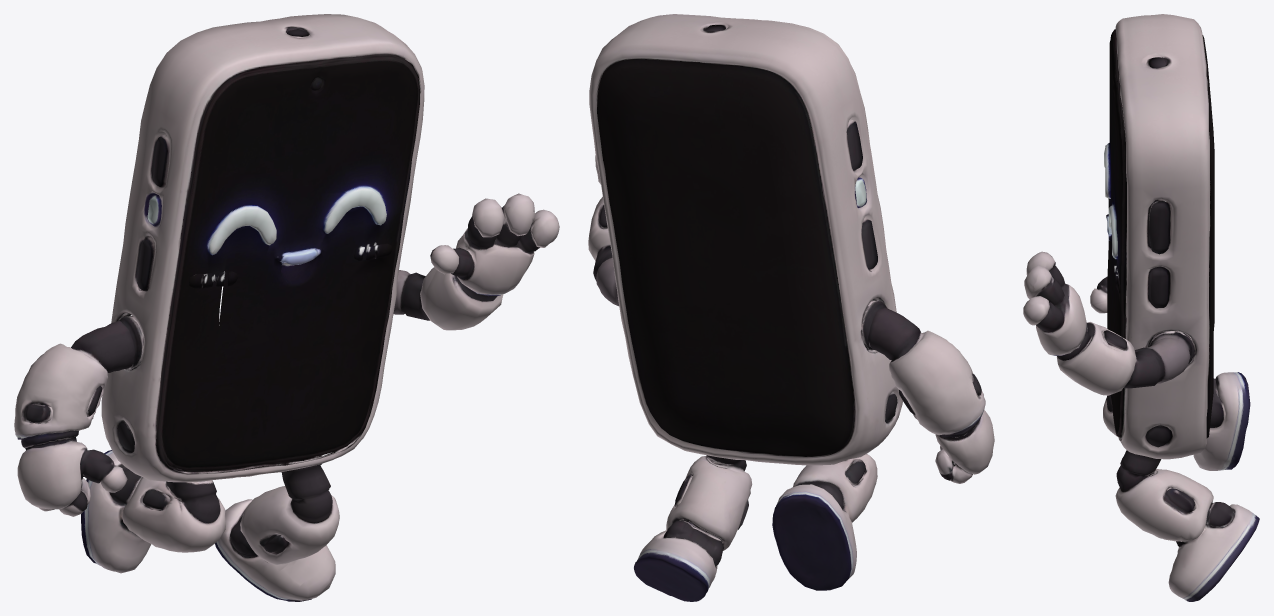
The model's file is pirophone-original.glb.
3 renders of one model, left to right at view 1: azimuth 30°, elevation 25°; view 2: azimuth 150°, elevation 25°; view 3: azimuth 270°, elevation 25°, orthographic. The views are drawn at different scales.
Parts seen in each view (by area): view 1: tripo_node_0bdfe374-1112-45d9-809a-0ea83575762f; view 2: tripo_node_0bdfe374-1112-45d9-809a-0ea83575762f; view 3: tripo_node_0bdfe374-1112-45d9-809a-0ea83575762f.
Boxes of the visible parts, x1,y1,x2,y2 form: tripo_node_0bdfe374-1112-45d9-809a-0ea83575762f: (14,14,559,601); tripo_node_0bdfe374-1112-45d9-809a-0ea83575762f: (588,14,994,601); tripo_node_0bdfe374-1112-45d9-809a-0ea83575762f: (1023,14,1259,601).
Bounding box in the file's own units: 0.8115 × 0.9757 × 0.3914.
Materials: 1 (1 with a texture image).
